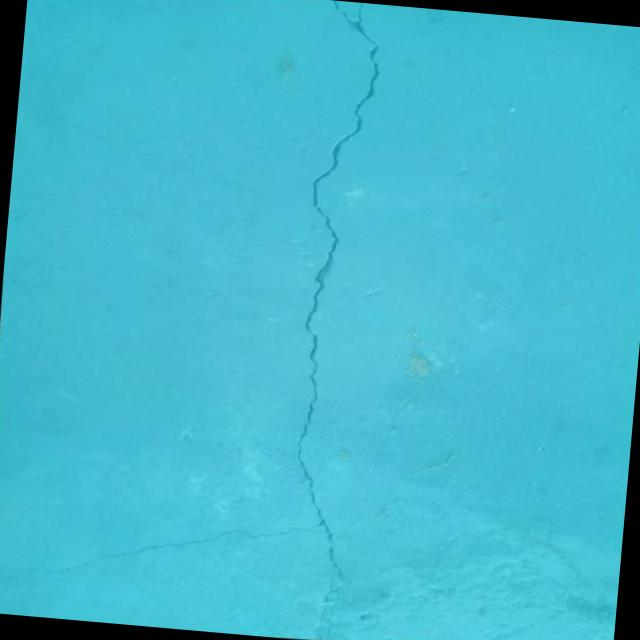crack: (268, 57, 391, 640), (8, 501, 315, 598), (327, 0, 385, 63), (326, 615, 360, 637), (0, 580, 21, 591)
